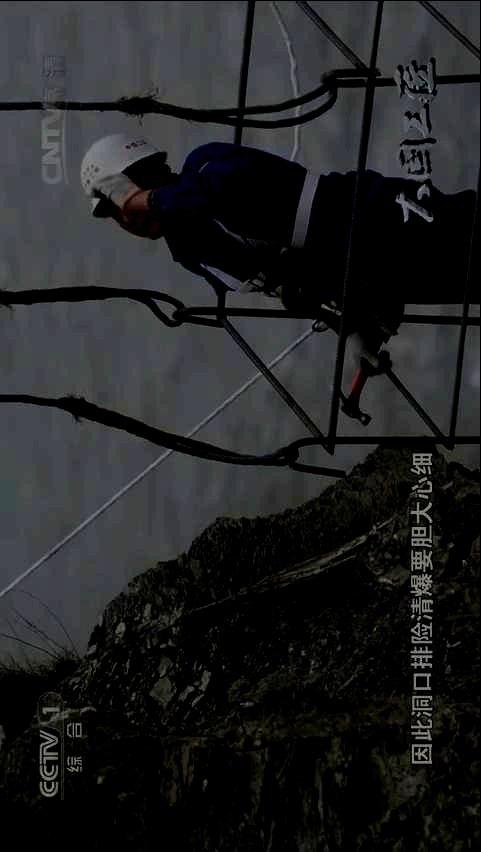helmet: (79, 132, 174, 241)
